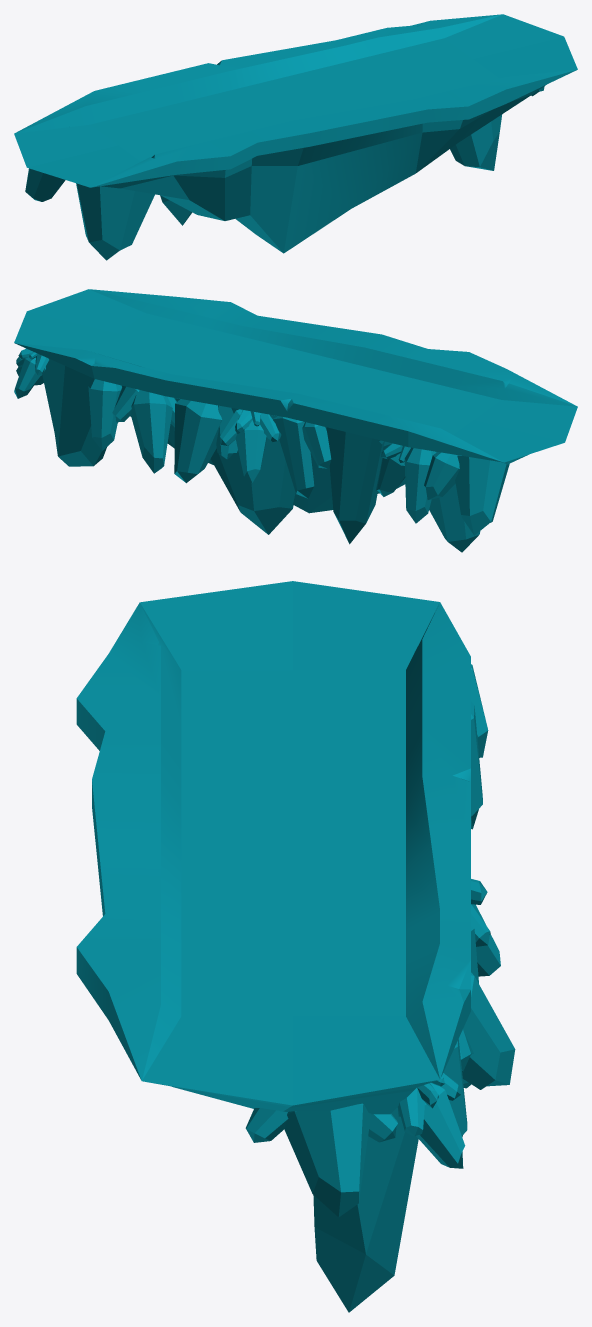
Rendered from Floating_Platform_Lrg.fbx.
3 views of the same model, one above another, from view 1: azimuth 30°, elevation 25°; view 2: azimuth 150°, elevation 25°; view 3: azimuth 270°, elevation 25° (orthographic). The views are drawn at different scales.
Visible parts, largest first — view 1: pCube131; view 2: pCube131; view 3: pCube131.
Part boxes in pixels (x1=…): pCube131: x1=14, y1=14, x2=577, y2=260; pCube131: x1=14, y1=289, x2=577, y2=552; pCube131: x1=76, y1=581, x2=515, y2=1312.
Size of the model in its own units: 4.71 by 1.28 by 1.67.
